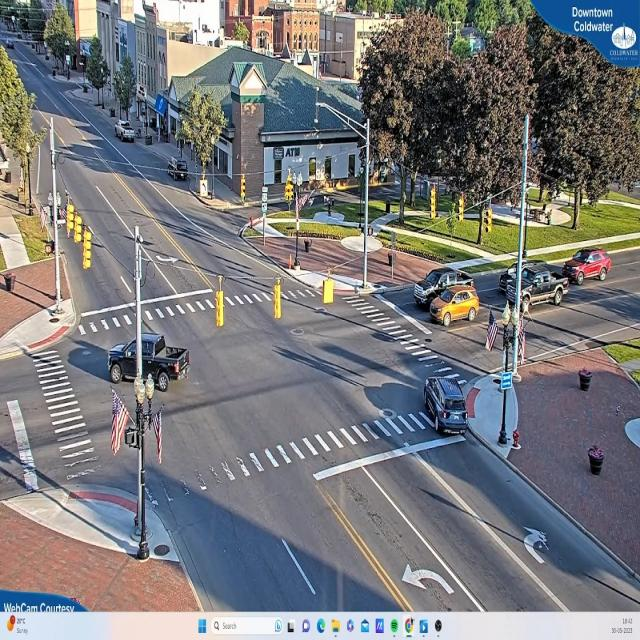car: (99, 331, 196, 394), (422, 376, 465, 434), (427, 282, 480, 326), (507, 267, 563, 305), (566, 248, 612, 284), (412, 265, 439, 305), (116, 123, 137, 143)
